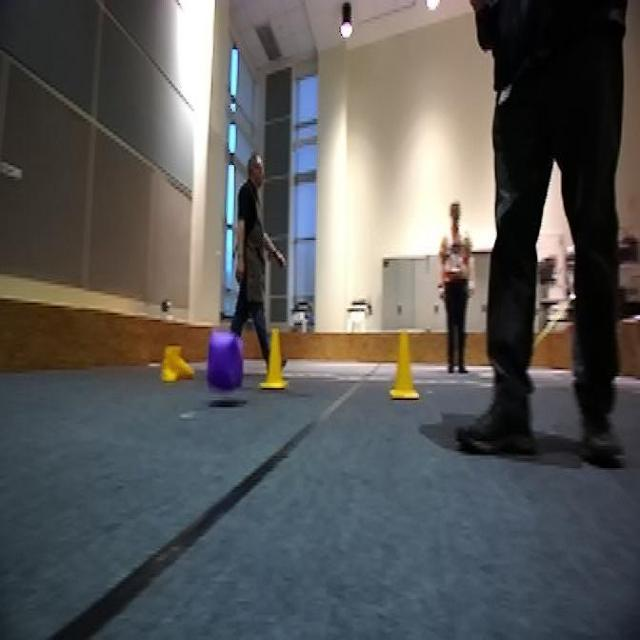frc_cone: (391, 329, 418, 400), (260, 328, 289, 392), (159, 342, 194, 385)
frc_cube: (206, 327, 244, 393)
